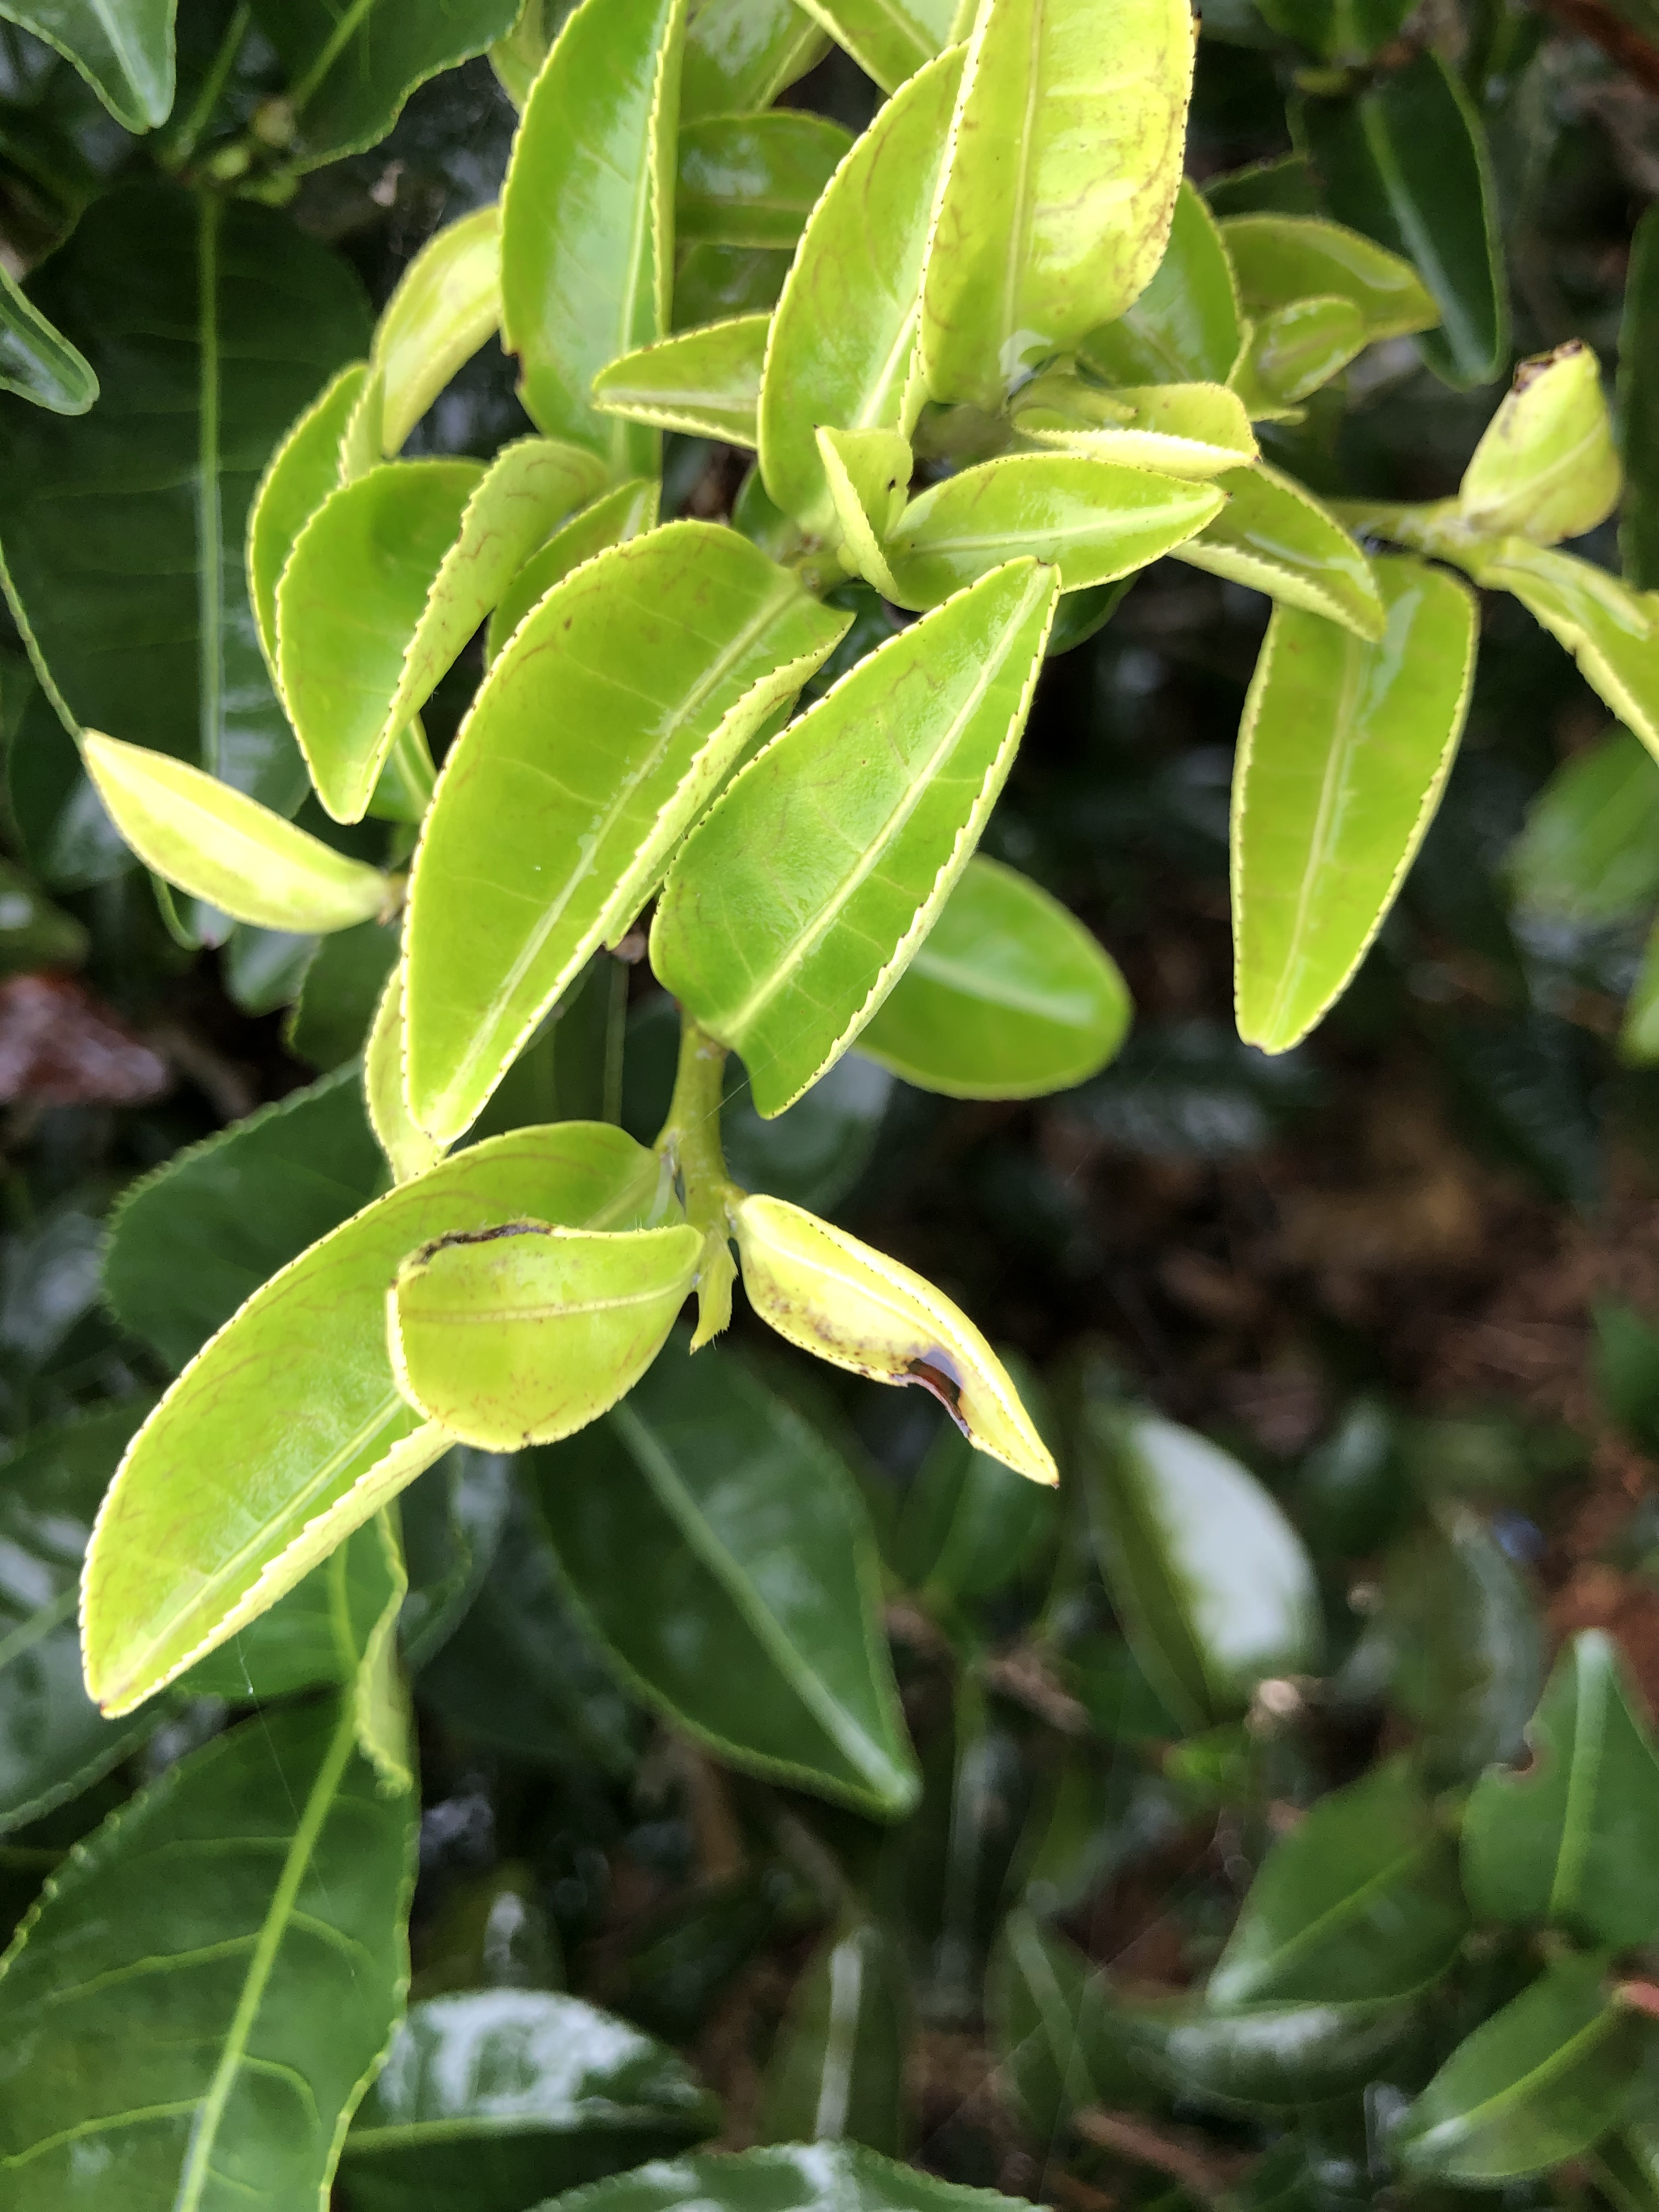formosa: (394, 1200, 685, 1456)
fungi_early: (732, 1193, 1058, 1503)
mosquito_early: (737, 1191, 1053, 1491)
thrips: (399, 526, 824, 1130)
